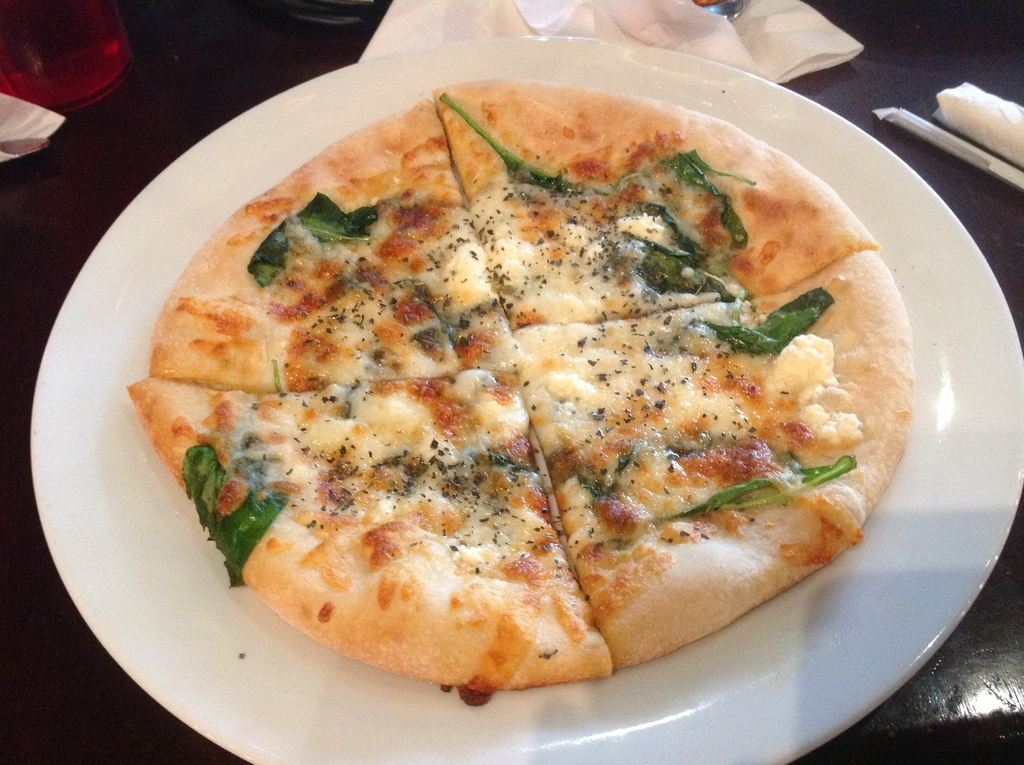Pizza: (128, 80, 929, 699)
